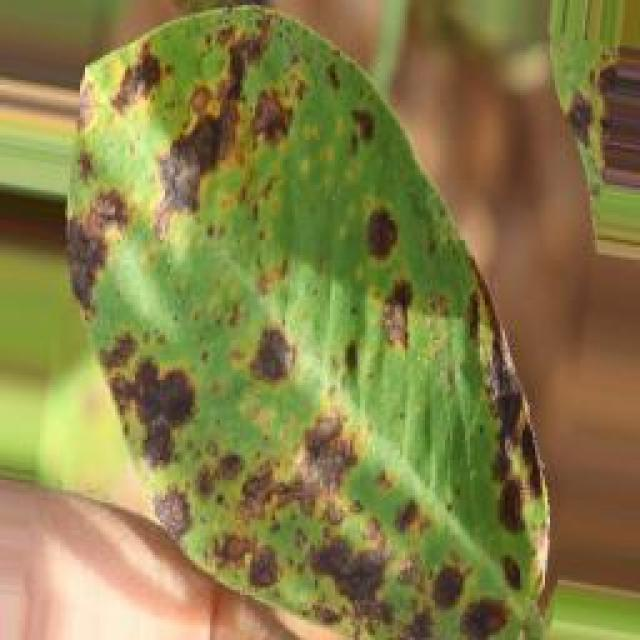Yellowish: (63, 24, 577, 640)
